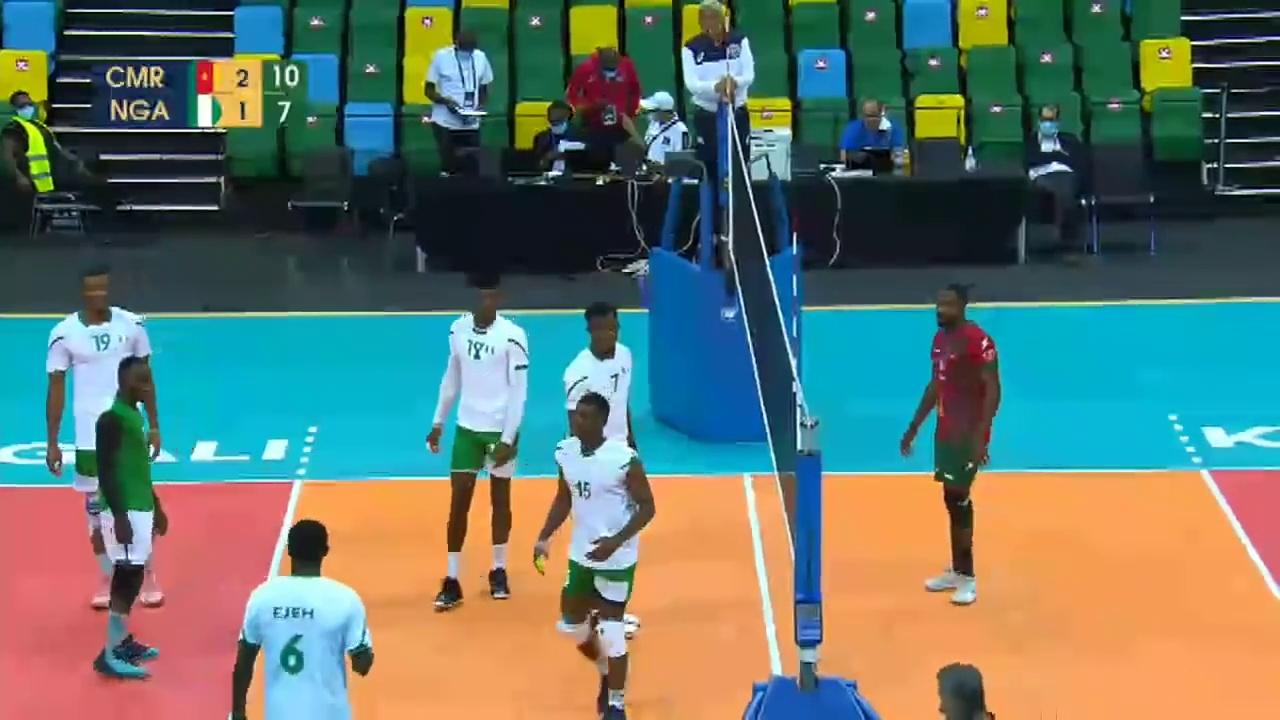player: (898, 280, 1009, 603), (425, 277, 530, 612), (543, 400, 650, 719), (557, 301, 646, 641), (228, 518, 377, 720), (56, 262, 162, 521), (91, 355, 164, 681)
refree: (684, 0, 756, 219)
